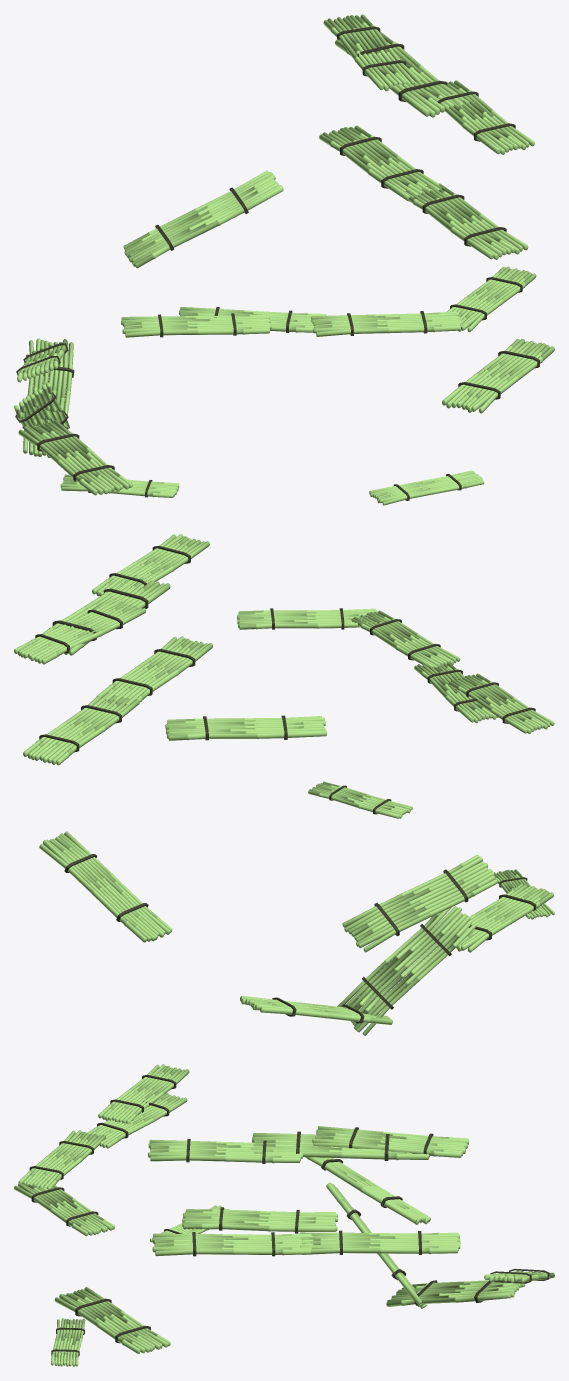
File: platforme bambou grande.fbx
3 views of the same model, one above another, from view 1: azimuth 30°, elevation 25°; view 2: azimuth 150°, elevation 25°; view 3: azimuth 270°, elevation 25° (orthographic). The views are drawn at different scales.
Visible parts, largest first — view 1: MSH_platforme_bambou_01__13_, MSH_platforme_bambou_01__6_, MSH_platforme_bambou_01__8_, MSH_platforme_bambou_01__2__1, MSH_platforme_bambou_01__12_, MSH_platforme_bambou_01__7_, MSH_platforme_bambou_01__5_, MSH_platforme_bambou_01__3_, MSH_platforme_bambou_01__1_, MSH_platforme_bambou_01, MSH_platforme_bambou_01__4_, MSH_platforme_bambou_01__10_ (+5 smaller); view 2: MSH_platforme_bambou_01__9_, MSH_platforme_bambou_01__11_, MSH_platforme_bambou_01__13_, MSH_platforme_bambou_01__12_, MSH_platforme_bambou_01__8_, MSH_platforme_bambou_01__7_, MSH_platforme_bambou_01__6_, MSH_platforme_bambou_01__5_, MSH_platforme_bambou_01__2__1, MSH_platforme_bambou_01__3_, MSH_platforme_bambou_01__1_, MSH_platforme_bambou_01 (+5 smaller); view 3: MSH_platforme_bambou_01__6_, MSH_platforme_bambou_01__8_, MSH_platforme_bambou_01__2__1, MSH_platforme_bambou_01__12_, MSH_platforme_bambou_01__7_, MSH_platforme_bambou_01__5_, MSH_platforme_bambou_01__4_, MSH_platforme_bambou_01__10_, MSH_platforme_bambou_01__3_, MSH_platforme_bambou_01__1_, MSH_platforme_bambou_01, MSH_platforme_bambou_01__11_ (+4 smaller).
Part boxes in pixels (bbox=[...]): MSH_platforme_bambou_01__13_: bbox=[123, 170, 283, 268]; MSH_platforme_bambou_01__6_: bbox=[405, 183, 528, 259]; MSH_platforme_bambou_01__8_: bbox=[319, 125, 441, 201]; MSH_platforme_bambou_01__2__1: bbox=[18, 419, 132, 495]; MSH_platforme_bambou_01__12_: bbox=[442, 339, 554, 413]; MSH_platforme_bambou_01__7_: bbox=[323, 14, 420, 91]; MSH_platforme_bambou_01__5_: bbox=[423, 80, 534, 154]; MSH_platforme_bambou_01__3_: bbox=[121, 313, 271, 337]; MSH_platforme_bambou_01__1_: bbox=[310, 311, 461, 336]; MSH_platforme_bambou_01: bbox=[438, 266, 536, 332]; MSH_platforme_bambou_01__4_: bbox=[335, 32, 469, 117]; MSH_platforme_bambou_01__10_: bbox=[22, 338, 74, 457]; MSH_platforme_bambou_01__9_: bbox=[337, 906, 475, 1035]; MSH_platforme_bambou_01__11_: bbox=[342, 854, 497, 952]; MSH_platforme_bambou_01__13_: bbox=[39, 831, 172, 942]; MSH_platforme_bambou_01__12_: bbox=[165, 715, 326, 740]; MSH_platforme_bambou_01__8_: bbox=[23, 692, 139, 765]; MSH_platforme_bambou_01__7_: bbox=[14, 599, 146, 664]; MSH_platforme_bambou_01__6_: bbox=[96, 636, 212, 704]; MSH_platforme_bambou_01__5_: bbox=[92, 534, 209, 598]; MSH_platforme_bambou_01__2__1: bbox=[439, 884, 553, 952]; MSH_platforme_bambou_01__3_: bbox=[448, 673, 554, 733]; MSH_platforme_bambou_01__1_: bbox=[351, 610, 460, 668]; MSH_platforme_bambou_01: bbox=[237, 608, 377, 629]; MSH_platforme_bambou_01__6_: bbox=[152, 1232, 313, 1256]; MSH_platforme_bambou_01__8_: bbox=[299, 1230, 460, 1254]; MSH_platforme_bambou_01__2__1: bbox=[182, 1207, 337, 1233]; MSH_platforme_bambou_01__12_: bbox=[54, 1287, 170, 1353]; MSH_platforme_bambou_01__7_: bbox=[312, 1126, 469, 1157]; MSH_platforme_bambou_01__5_: bbox=[148, 1139, 302, 1163]; MSH_platforme_bambou_01__4_: bbox=[251, 1131, 429, 1160]; MSH_platforme_bambou_01__10_: bbox=[386, 1280, 526, 1306]; MSH_platforme_bambou_01__3_: bbox=[98, 1064, 189, 1123]; MSH_platforme_bambou_01__1_: bbox=[18, 1130, 105, 1188]; MSH_platforme_bambou_01: bbox=[14, 1177, 114, 1236]; MSH_platforme_bambou_01__11_: bbox=[305, 1157, 430, 1224].
Size of the model in its own units: 27.42 by 19.83 by 31.08.
